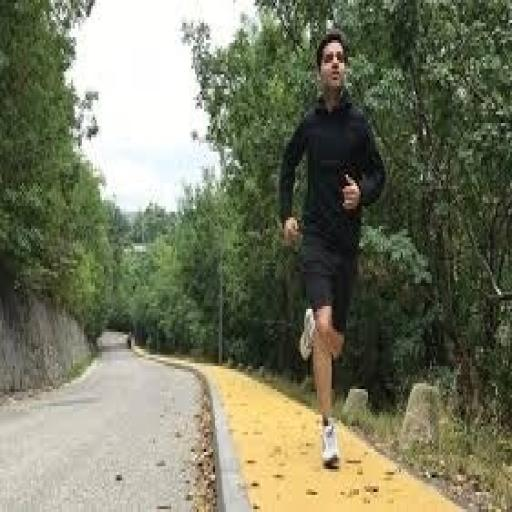running: (275, 26, 388, 472)
